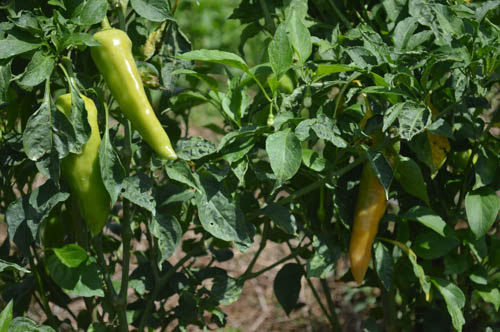ChiliPepper: (91, 32, 179, 162), (51, 96, 112, 239), (346, 130, 394, 284)
